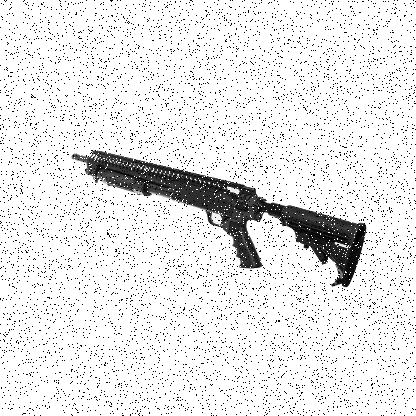gun: (72, 150, 362, 283)
